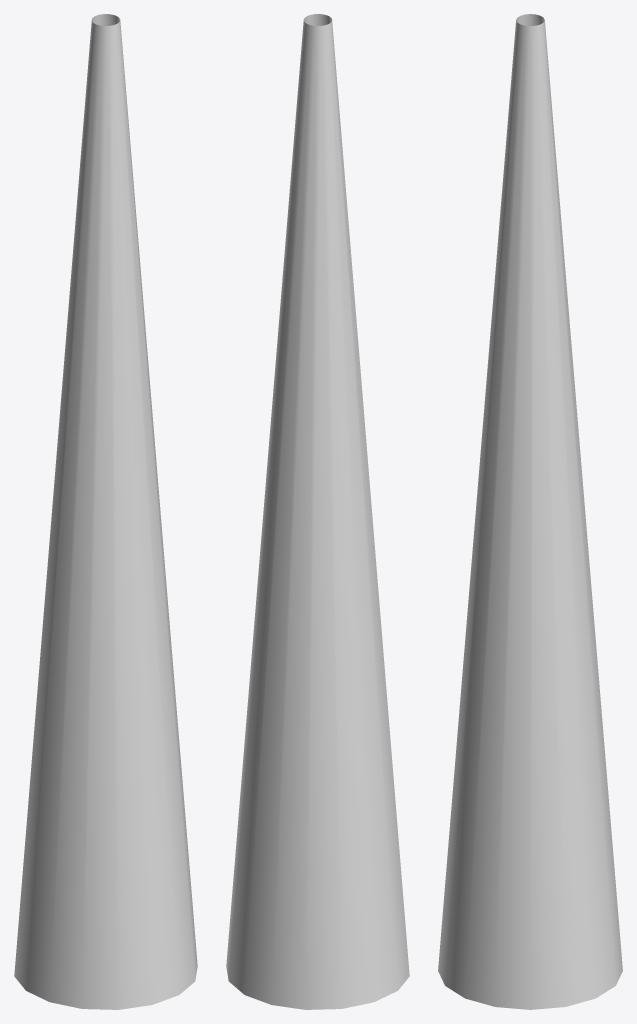
File: Props_Spot.fbx
3 views of the same model, side by side, from view 1: azimuth 30°, elevation 25°; view 2: azimuth 150°, elevation 25°; view 3: azimuth 270°, elevation 25° (orthographic).
Parts seen in each view (by area): view 1: spot; view 2: spot; view 3: spot.
Part boxes in pixels (left/top/right/bottom): spot: left=14, top=14, right=197, bottom=1009; spot: left=226, top=14, right=409, bottom=1009; spot: left=438, top=14, right=622, bottom=1009.
Bounding box in the file's own units: 26.17 × 148 × 26.17.
